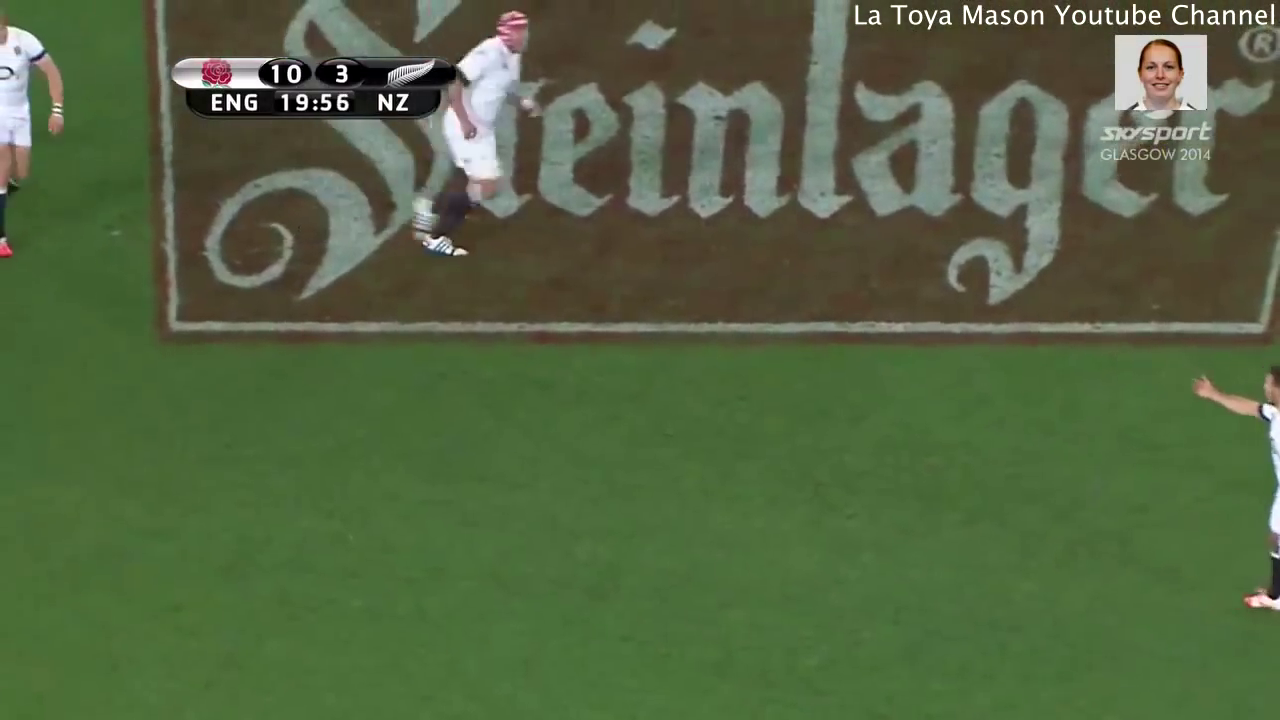player: (408, 9, 547, 269), (1174, 355, 1280, 619), (1, 1, 69, 268)
